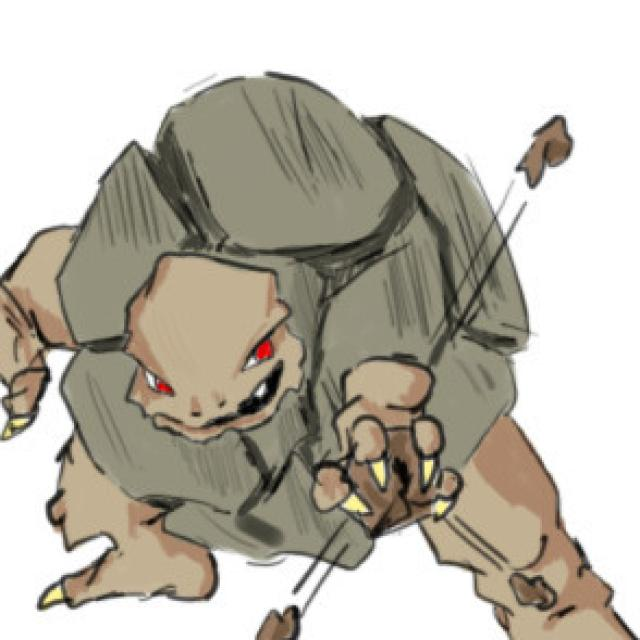Golem: (3, 78, 536, 640)
